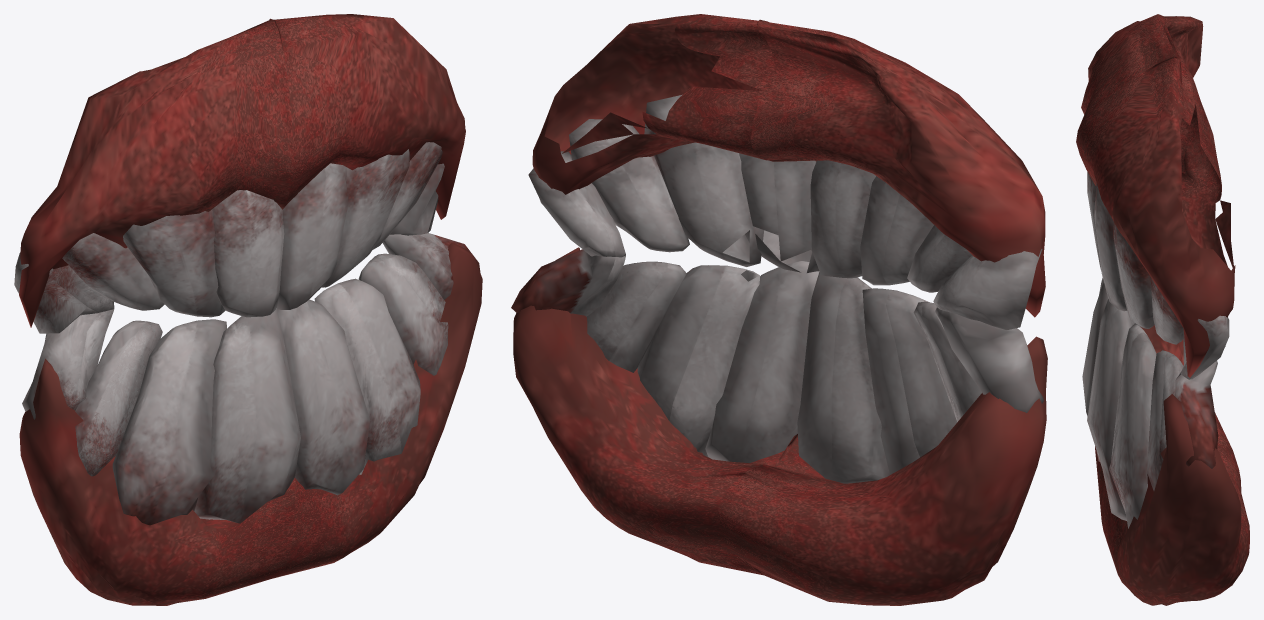
The model's file is teef.dae.
3 views of the same model, side by side, from view 1: azimuth 30°, elevation 25°; view 2: azimuth 150°, elevation 25°; view 3: azimuth 270°, elevation 25° (orthographic). The views are drawn at different scales.
Visible parts, largest first — view 1: Lower, Upper; view 2: Lower, Upper; view 3: Upper, Lower.
Part boxes in pixels (<box>): Lower: <box>19,233,482,605</box>; Upper: <box>14,14,465,333</box>; Lower: <box>511,247,1047,605</box>; Upper: <box>528,14,1045,329</box>; Upper: <box>1076,14,1235,379</box>; Lower: <box>1082,278,1249,605</box>.
Size of the model in its own units: 0.395 by 0.1276 by 0.4241.
Materials: 1 (1 with a texture image).
